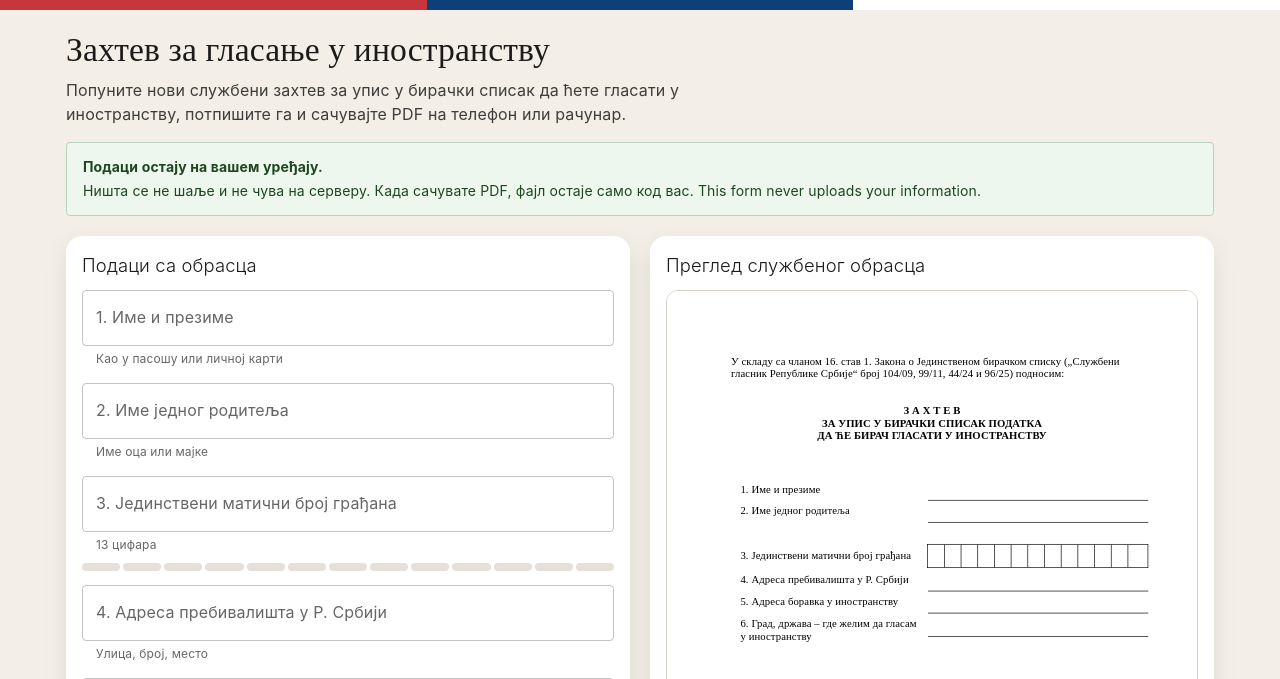
Test case: only accepts 13 JMBG digits
Type "12ab345678901234567" into the field labelled "3. Јединствени матични број грађана" at (348, 504), box x1=82 y1=476 x2=614 y2=532
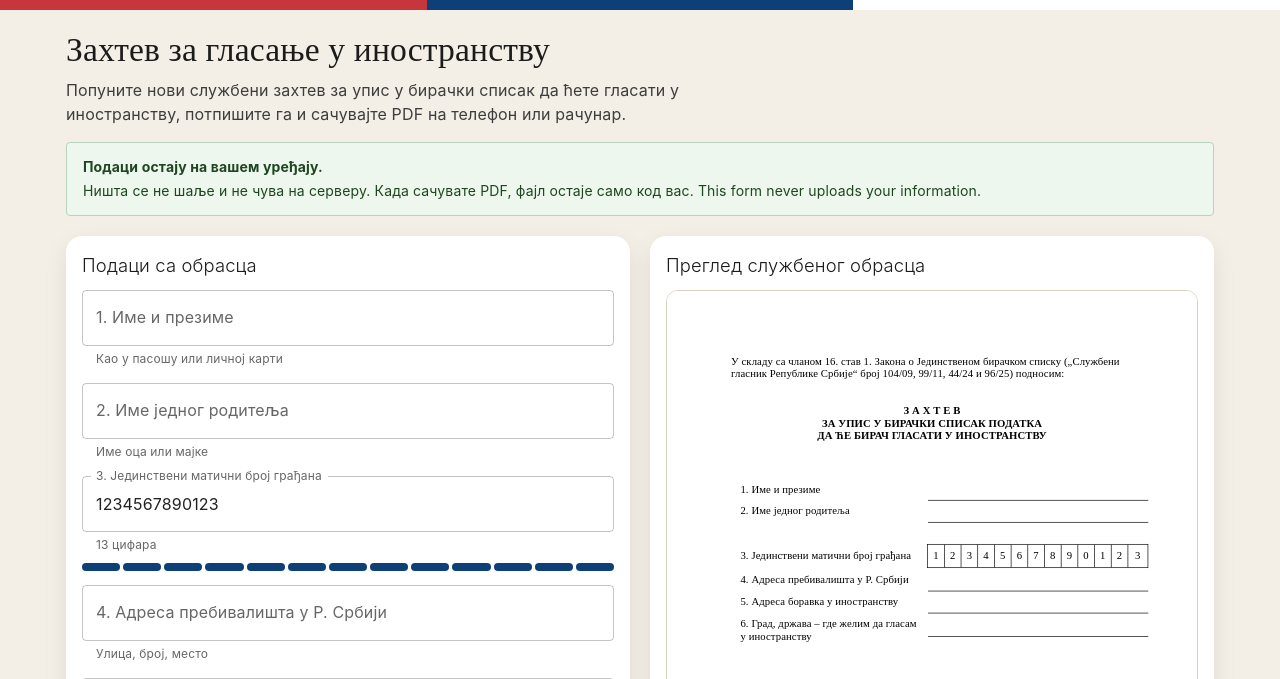
expect the field labelled "3. Јединствени матични број грађана" holds "1234567890123": met, box x1=82 y1=476 x2=614 y2=532
